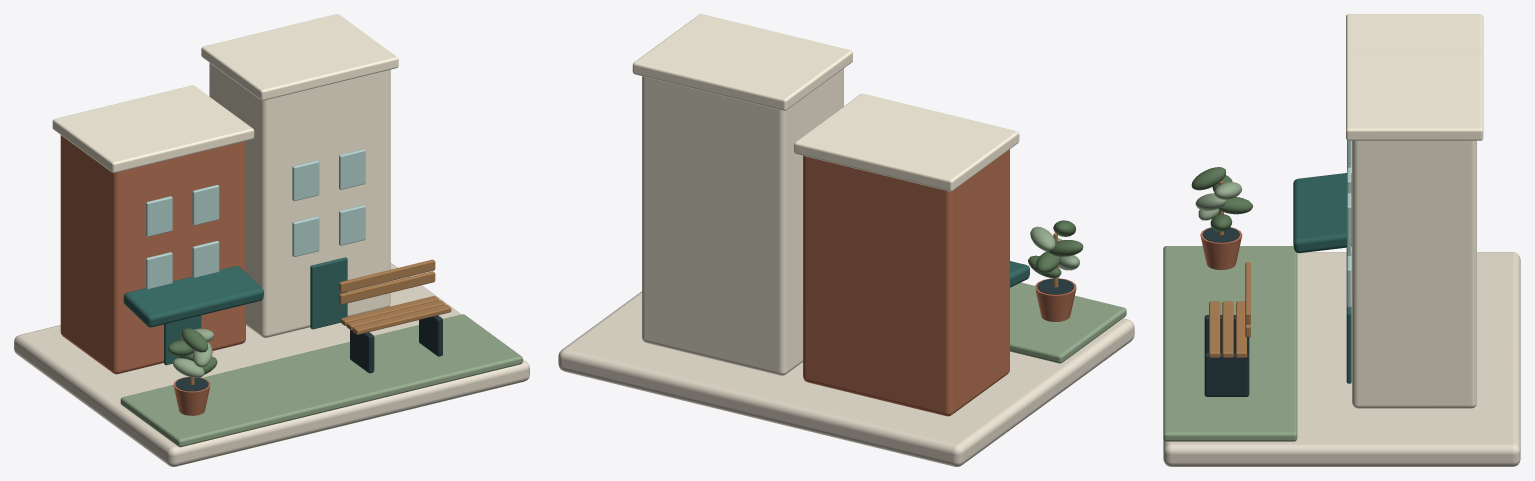
The model's file is city.glb.
3 views of the same model, side by side, from view 1: azimuth 30°, elevation 25°; view 2: azimuth 150°, elevation 25°; view 3: azimuth 270°, elevation 25° (orthographic). The views are drawn at different scales.
Parts seen in each view (by area): view 1: building (×2), roof-cap (×2), pavement, street-base, window (×8), shop-awning, door (×2), back-slat (×2), seat-slat (×3), bench-leg (×2), ceramic-pot; view 2: building (×2), street-base, roof-cap (×2), pavement, ceramic-pot; view 3: building, street-base, pavement, roof-cap (×2), shop-awning, bench-leg (×2), seat-slat (×3), leaf (×4), ceramic-pot, door, soil, back-slat.
Boxes of the visible parts, box(x1,y1,x2,y2) form: building (×2): box(60, 62, 390, 374); roof-cap (×2): box(52, 14, 398, 172); pavement: box(120, 314, 522, 447); street-base: box(14, 262, 529, 466); window (×8): box(145, 149, 365, 288); shop-awning: box(123, 266, 263, 327); door (×2): box(164, 257, 347, 365); back-slat (×2): box(339, 259, 435, 304); seat-slat (×3): box(340, 295, 451, 334); bench-leg (×2): box(350, 315, 442, 373); ceramic-pot: box(173, 376, 210, 415); building (×2): box(642, 68, 1009, 416); street-base: box(558, 291, 1134, 466); roof-cap (×2): box(632, 14, 1019, 191); pavement: box(1010, 282, 1126, 363); ceramic-pot: box(1035, 278, 1076, 321); building: box(1352, 140, 1476, 408); street-base: box(1163, 252, 1520, 466); pavement: box(1163, 246, 1297, 441); roof-cap (×2): box(1346, 14, 1483, 140); shop-awning: box(1293, 173, 1351, 253); bench-leg (×2): box(1204, 315, 1249, 396); seat-slat (×3): box(1209, 301, 1246, 357); leaf (×4): box(1191, 167, 1252, 214); ceramic-pot: box(1200, 227, 1242, 269); door: box(1346, 295, 1351, 383); soil: box(1202, 227, 1239, 242); back-slat: box(1245, 262, 1250, 324).
Bounding box in the file's own units: 4.2 × 3.08 × 3.2.
